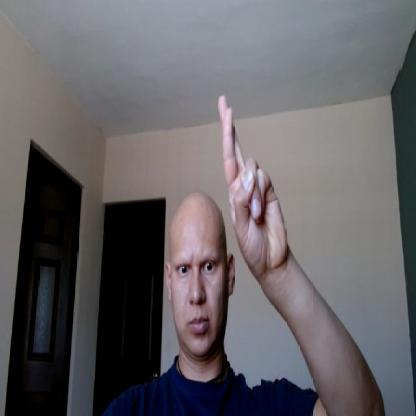R: (217, 90, 288, 276)
